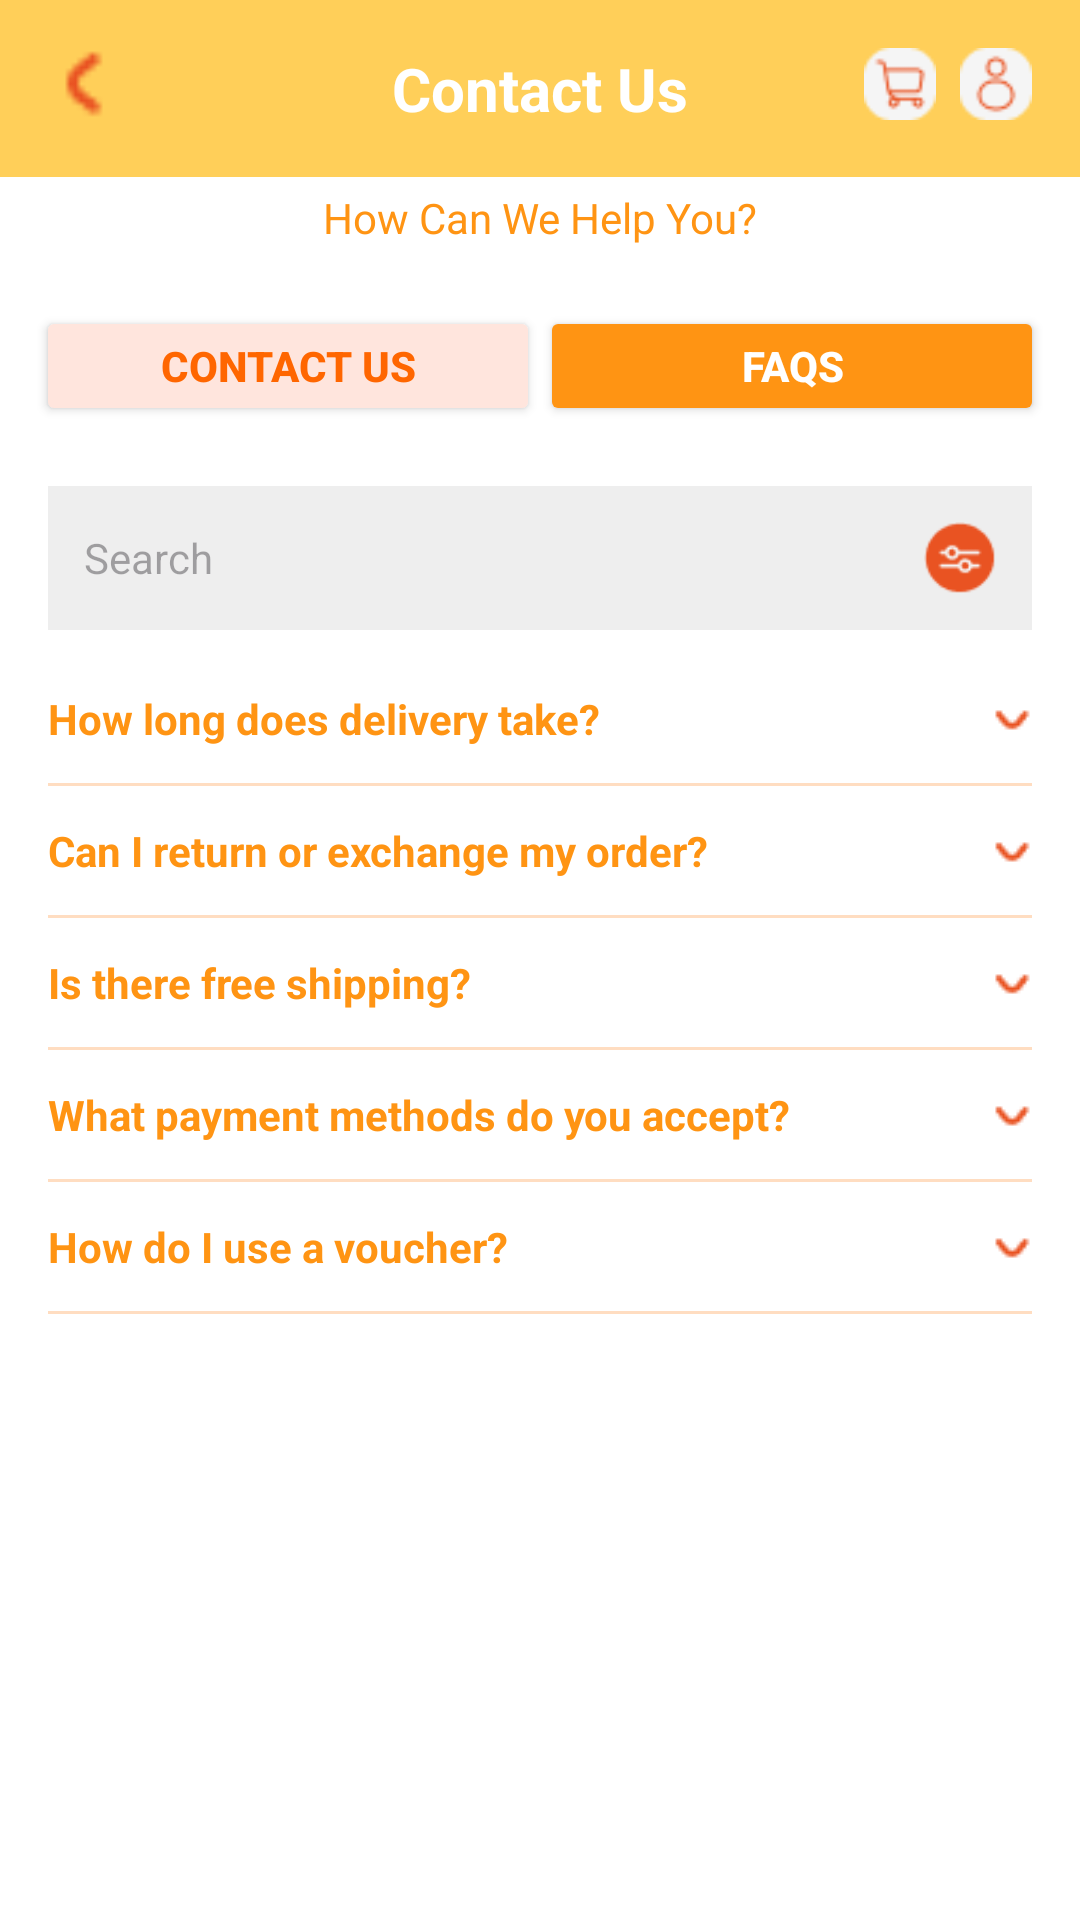

Screen size 1080×1920. Icon name, then its center in pixels as [x,y]:
back: [84,83]
cart: [900,84]
filter: [959,557]
user: [996,84]
